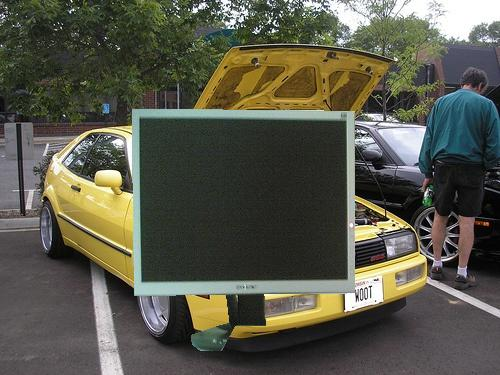tampered: (133, 110, 355, 351)
